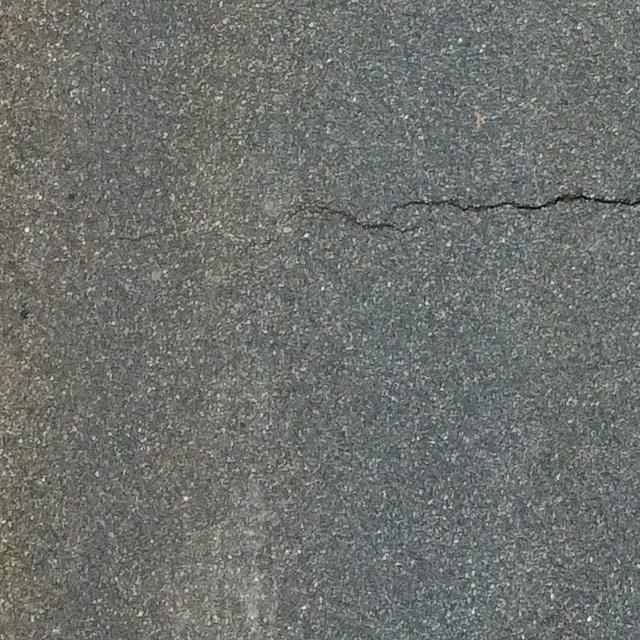TransverseCrack: (294, 193, 640, 232)
